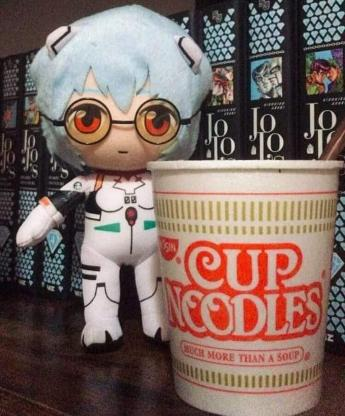rei-plush: (19, 5, 206, 357)
